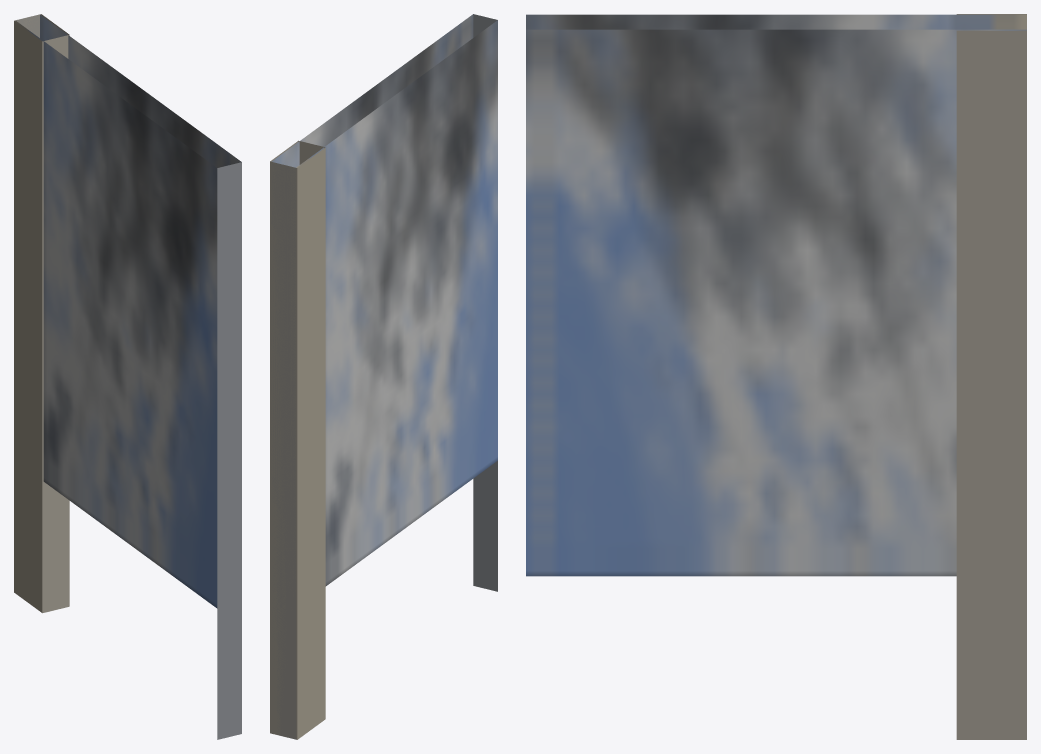
File: section-2.obj
3 views of the same model, side by side, from view 1: azimuth 30°, elevation 25°; view 2: azimuth 150°, elevation 25°; view 3: azimuth 270°, elevation 25° (orthographic). The views are drawn at different scales.
Bounding box in the file's own units: 0.05 × 1 × 0.64.
